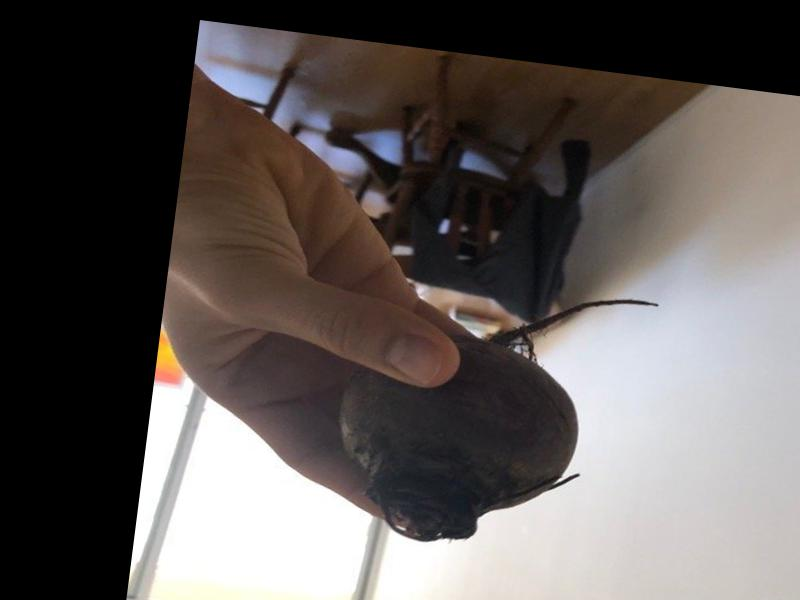Beet: (326, 265, 660, 568)
